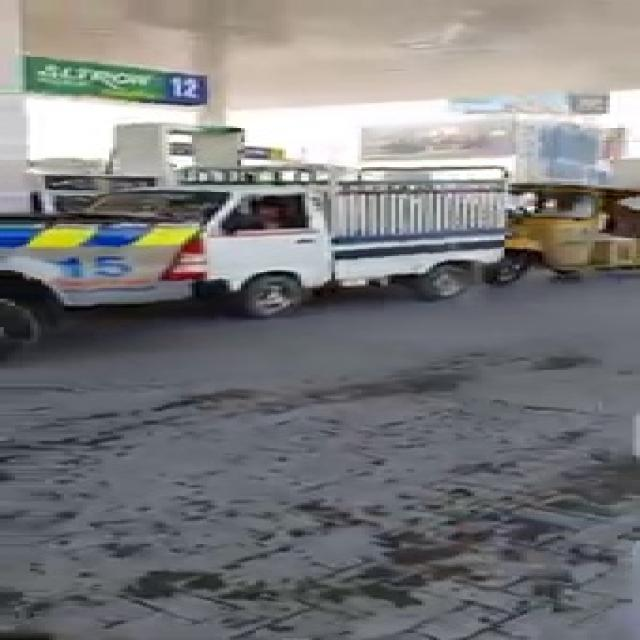police: (0, 203, 207, 341)
